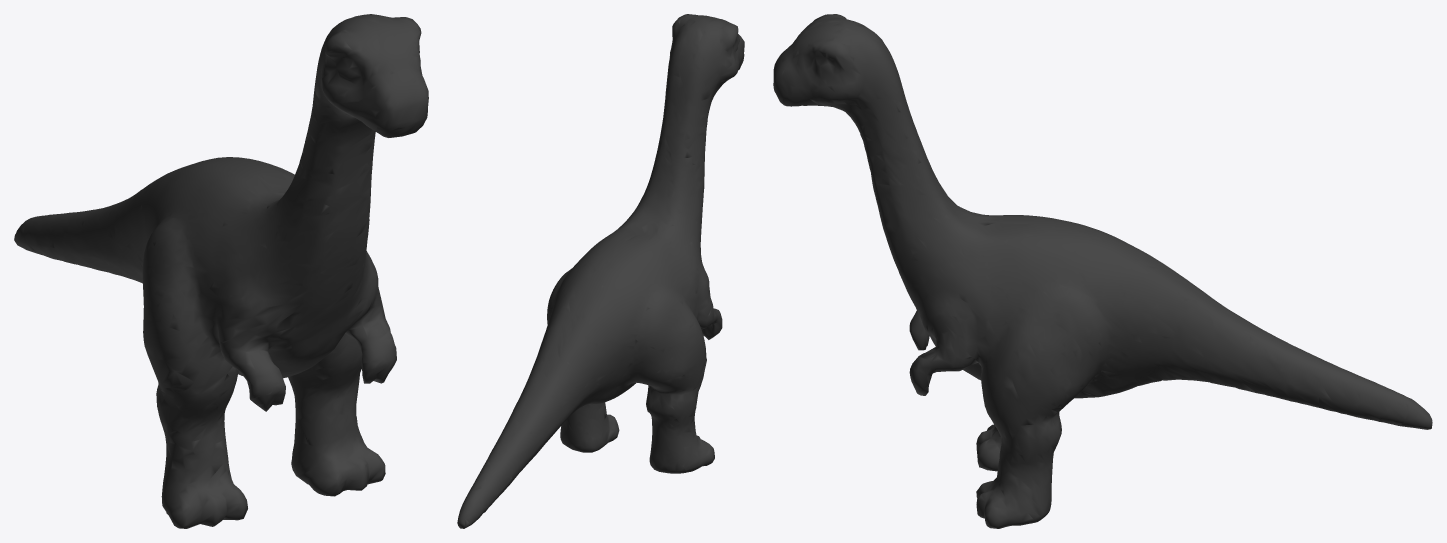
Rendered from plateosaurus.glb.
3 views of the same model, side by side, from view 1: azimuth 30°, elevation 25°; view 2: azimuth 150°, elevation 25°; view 3: azimuth 270°, elevation 25° (orthographic). The views are drawn at different scales.
Parts seen in each view (by area): view 1: geometry_0; view 2: geometry_0; view 3: geometry_0.
Boxes of the visible parts, x1,y1,x2,y2 form: geometry_0: (14, 14, 428, 528); geometry_0: (457, 14, 744, 528); geometry_0: (773, 14, 1432, 528).
Size of the model in its own units: 0.3108 by 0.7786 by 1.
1 material, 1 textured.
